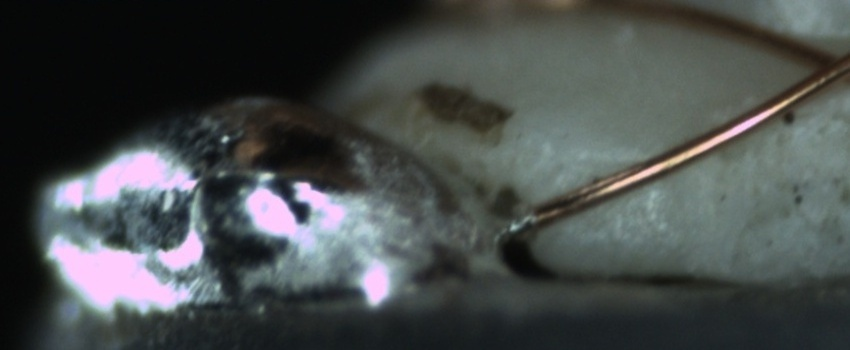CL: (795, 36, 850, 91)
DL: (548, 132, 669, 184)
TS: (502, 210, 537, 238)
